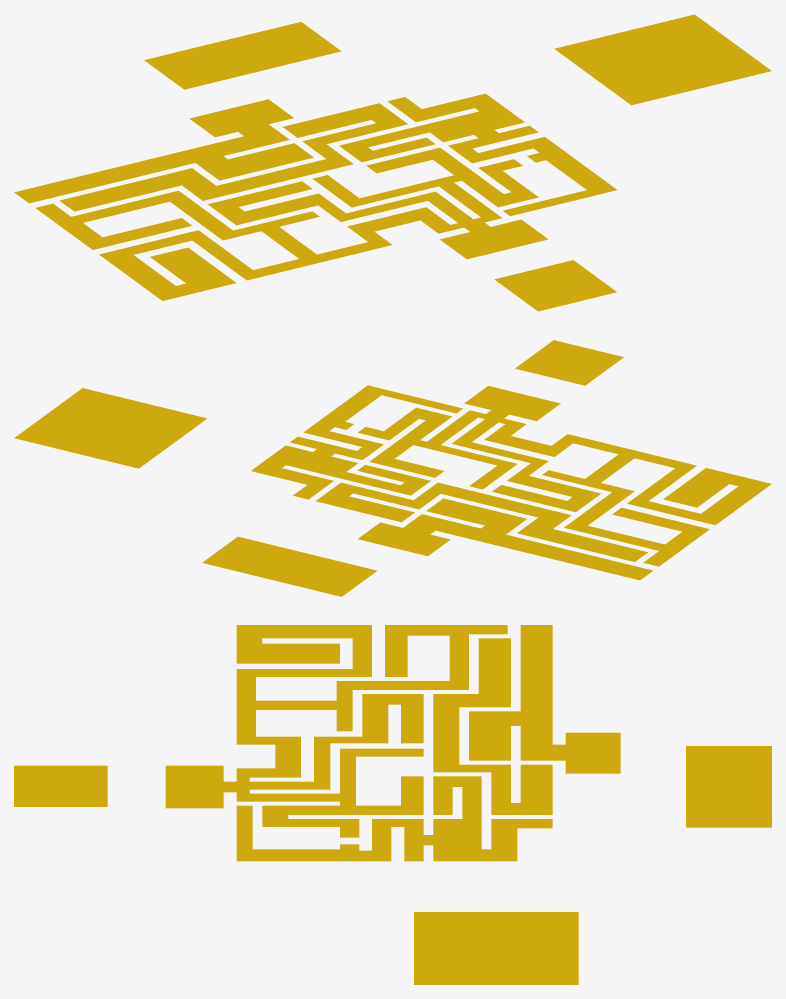
Rendered from yellowNavMesh.gltf.
3 views of the same model, one above another, from view 1: azimuth 30°, elevation 25°; view 2: azimuth 150°, elevation 25°; view 3: azimuth 270°, elevation 25° (orthographic). The views are drawn at different scales.
Visible parts, largest first — view 1: navMesh; view 2: navMesh; view 3: navMesh.
Part boxes in pixels (left/top/right/bottom): navMesh: left=14, top=14, right=771, bottom=311; navMesh: left=14, top=340, right=771, bottom=596; navMesh: left=14, top=625, right=771, bottom=984.
Bounding box in the file's own units: 118 × 3.53e-05 × 105.
